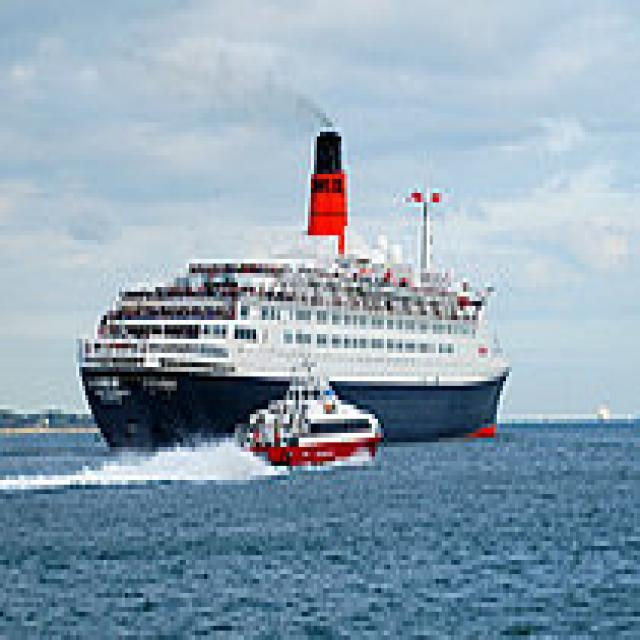Ship: (62, 123, 519, 467)
